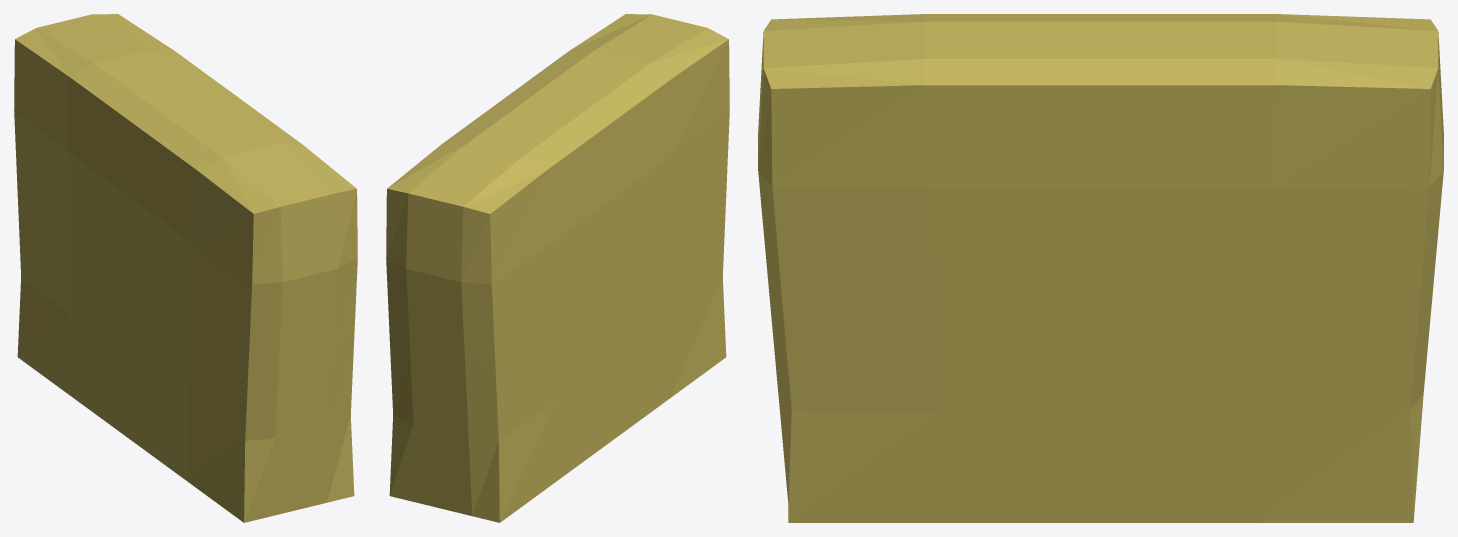
The model's file is brush_bristles.obj.
The picture shows the model from 3 angles, left to right: view 1: azimuth 30°, elevation 25°; view 2: azimuth 150°, elevation 25°; view 3: azimuth 270°, elevation 25°; orthographic projection. The views are drawn at different scales.
Bounding box in the file's own units: 0.5928 × 1.66 × 2.31.
